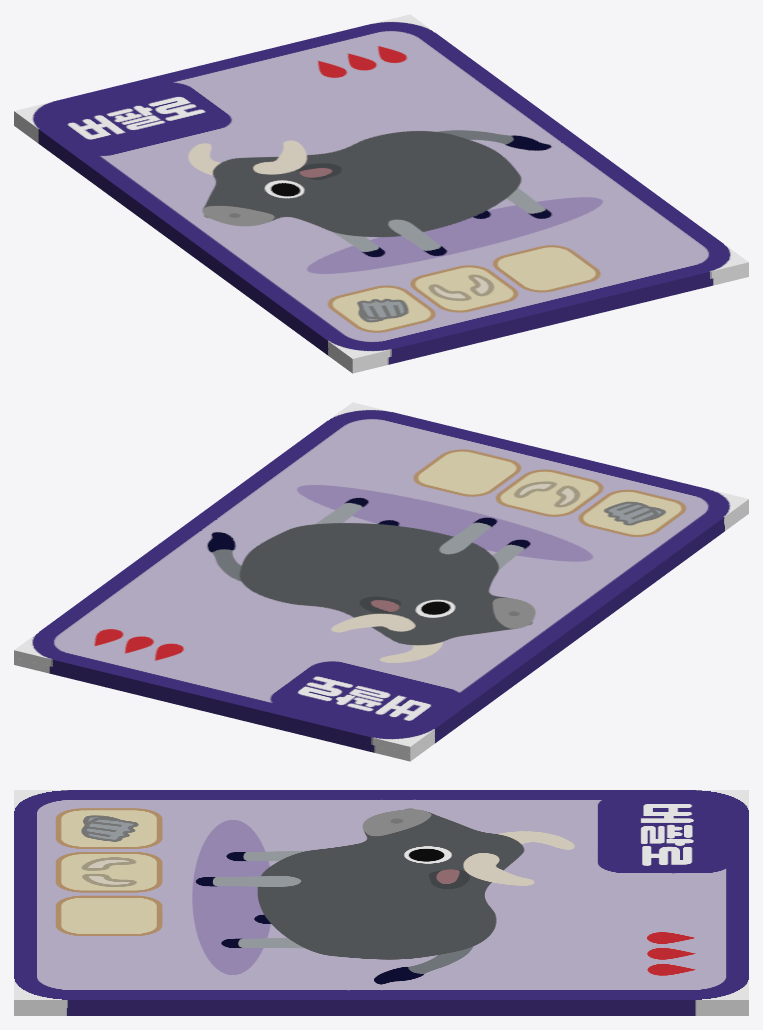
File: BuffaloCard.fbx
The picture shows the model from 3 angles, top to bottom: view 1: azimuth 30°, elevation 25°; view 2: azimuth 150°, elevation 25°; view 3: azimuth 270°, elevation 25°; orthographic projection. The views are drawn at different scales.
Parts seen in each view (by area): view 1: Front, Back; view 2: Front, Back; view 3: Front, Back.
Boxes of the visible parts, <box> form: Front: <box>14,14,748,366</box>; Back: <box>14,118,748,373</box>; Front: <box>14,402,748,754</box>; Back: <box>14,506,748,761</box>; Front: <box>14,790,748,1007</box>; Back: <box>14,1008,748,1015</box>.
Size of the model in its own units: 4.06 by 0.1436 by 6.
